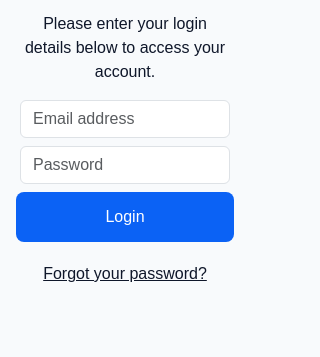
Test: UserLogin Component › shows validation error for password less than 8 characters
Type "test@domain.com" into the field with placeholder "Email address" at (125, 119), box [20,100,230,138]
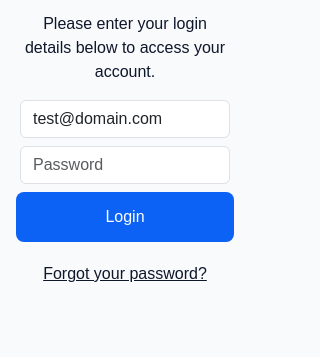
Type "short" into the password field with placeholder "Password" at (125, 165), box [20,146,230,184]
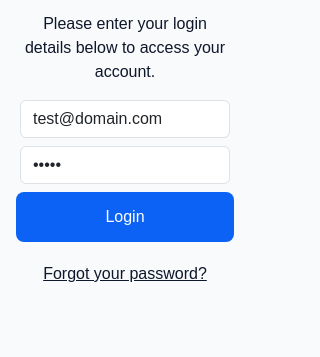
Click the button "Login" at (125, 217), box [16,192,234,242]
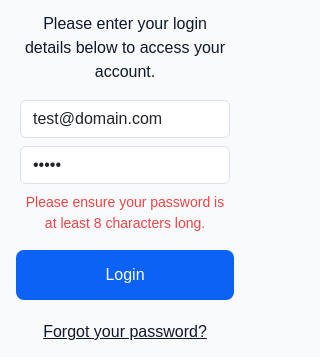
Check: the text "Please ensure your password is at least 8 characters long." is shown, box [16,192,234,234]
